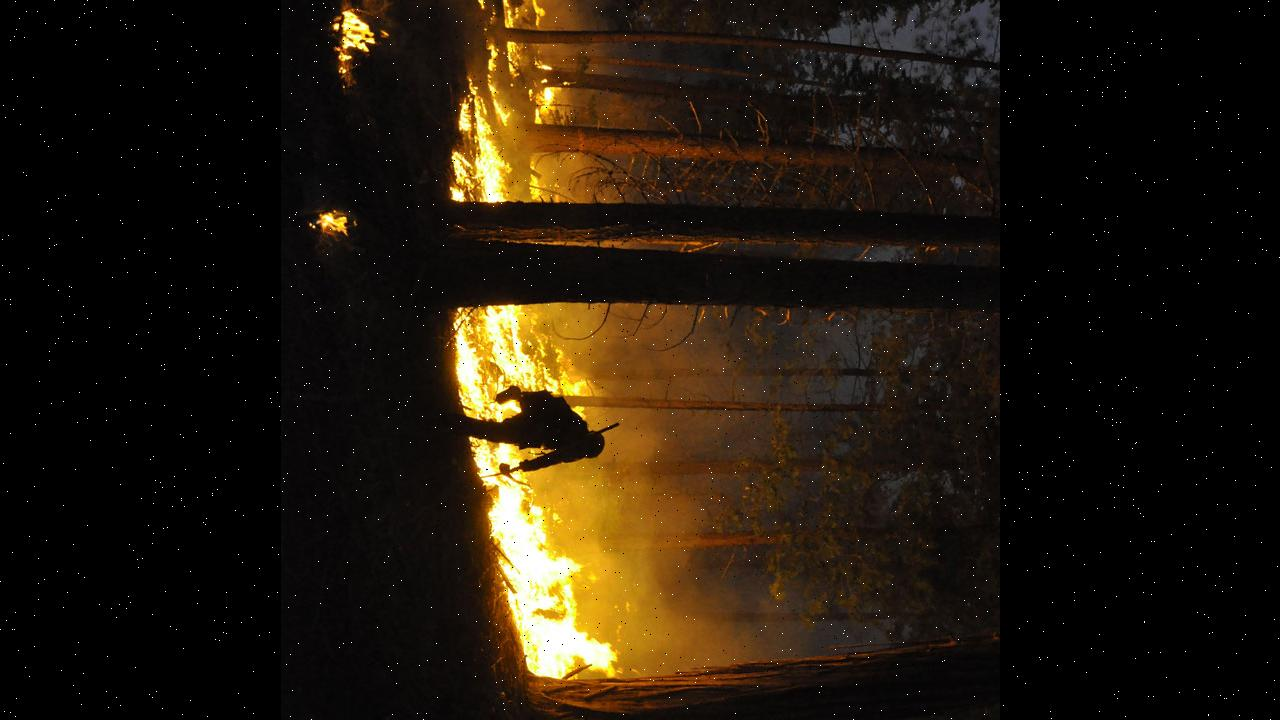fire: (280, 0, 559, 204), (480, 486, 656, 718), (446, 301, 574, 397)
